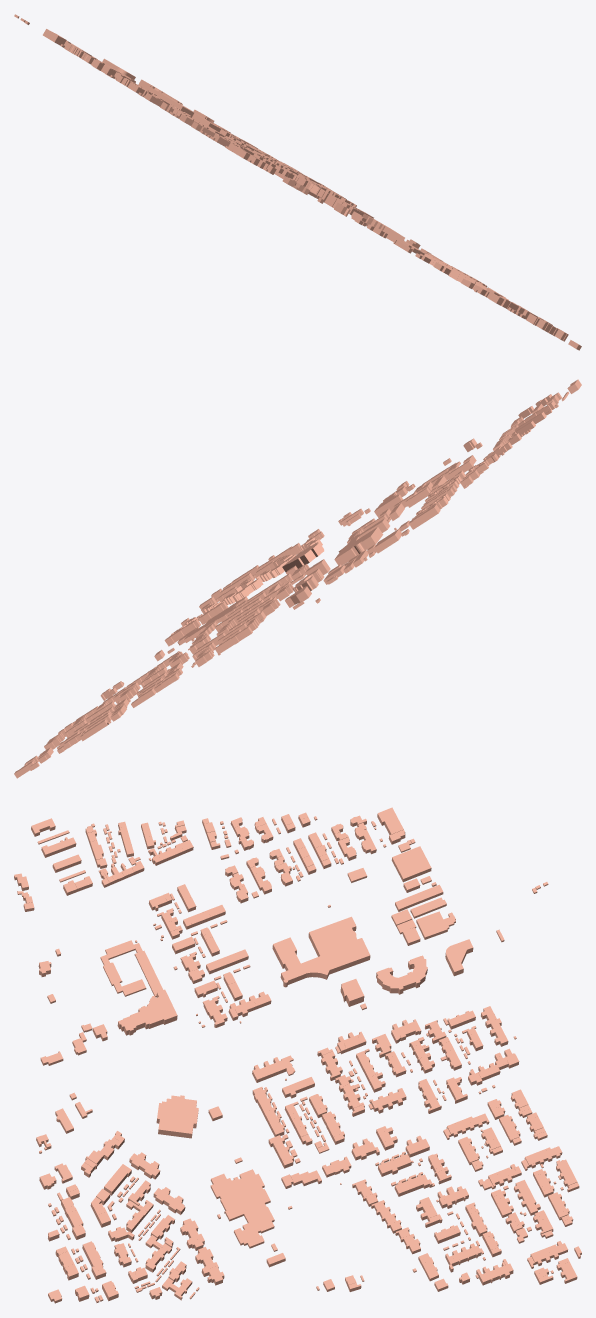
3 views of the same model, one above another, from view 1: azimuth 30°, elevation 25°; view 2: azimuth 150°, elevation 25°; view 3: azimuth 270°, elevation 25° (orthographic). The views are drawn at different scales.
Bounding box in the file's own units: 512 × 382 × 639.
